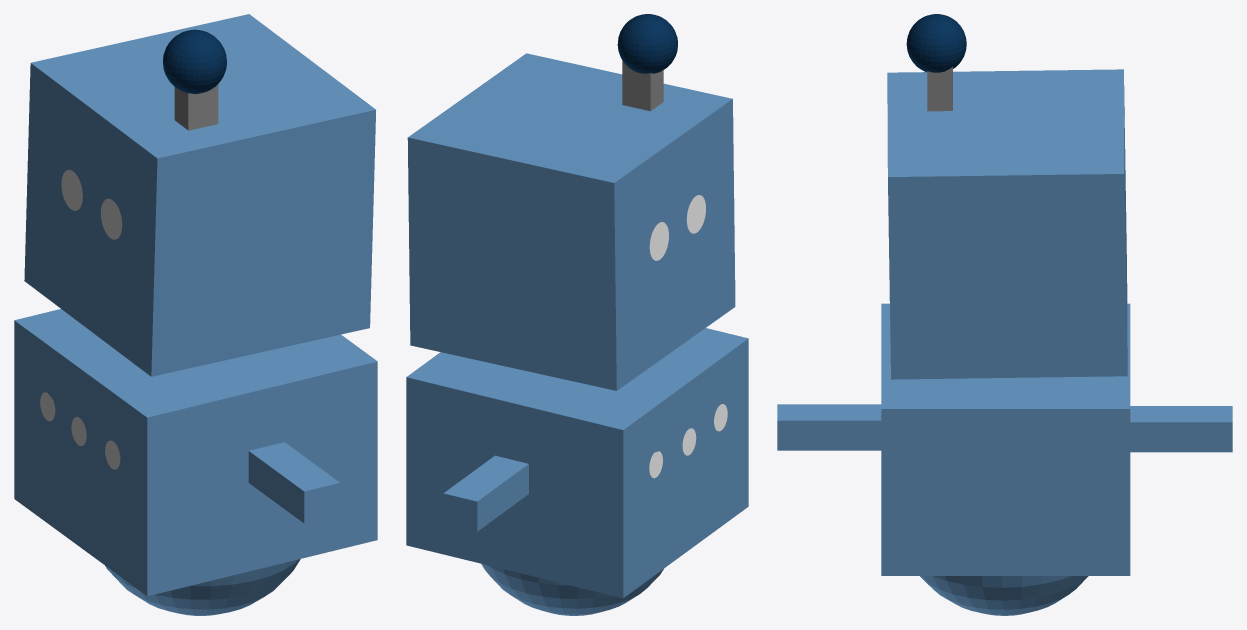
The model's file is TexturedAtomo.dae.
3 renders of one model, left to right at view 1: azimuth 30°, elevation 25°; view 2: azimuth 150°, elevation 25°; view 3: azimuth 270°, elevation 25°, orthographic. The views are drawn at different scales.
Parts seen in each view (by area): view 1: Cube_001, Cube_002, Sphere, Cube, Circle_001, Circle; view 2: Cube_001, Cube_002, Sphere, Cube, Circle_001, Circle; view 3: Cube_001, Cube_002, Sphere, Cube.
Boxes of the visible parts, x1,y1,x2,y2 form: Cube_001: [24, 14, 375, 376]; Cube_002: [14, 309, 377, 615]; Sphere: [163, 29, 226, 93]; Cube: [174, 84, 218, 130]; Circle_001: [61, 169, 82, 210]; Circle: [100, 198, 122, 239]; Cube_001: [407, 53, 735, 390]; Cube_002: [406, 328, 748, 615]; Sphere: [617, 14, 677, 73]; Cube: [622, 60, 663, 111]; Circle_001: [649, 222, 668, 260]; Circle: [686, 195, 705, 233]; Cube_001: [887, 69, 1127, 379]; Cube_002: [777, 303, 1232, 615]; Sphere: [906, 14, 966, 72]; Cube: [927, 66, 952, 111].
Size of the model in its own units: 3.73 by 6.68 by 9.22.
